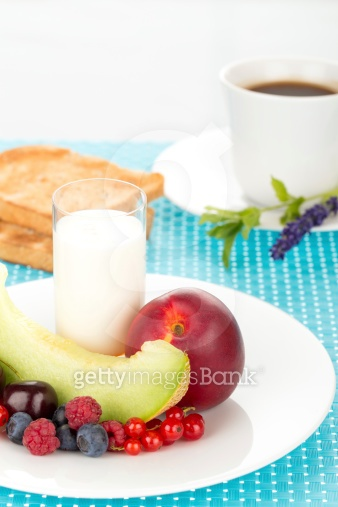glass of milk: (50, 178, 150, 355)
slice of bread: (3, 140, 184, 273)
